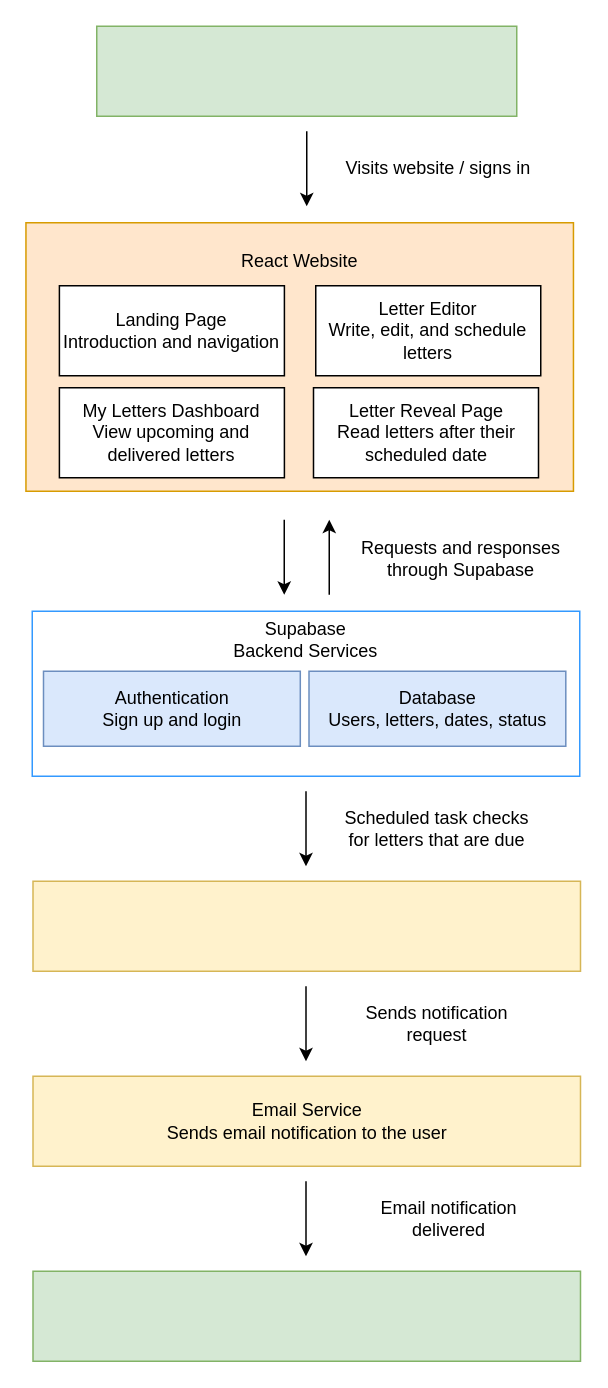
Image size: 608x1388. Some labels were removed from this diagram. The centre of each missing label's shape, as x and y in pixels:
Scheduled Backend Function Checks delivery dates and processes eligible letters: the point at 306,925
User receives email Returns to the website and opens the letter: the point at 306,1315
User Writes and manages future letters: the point at 306,70
